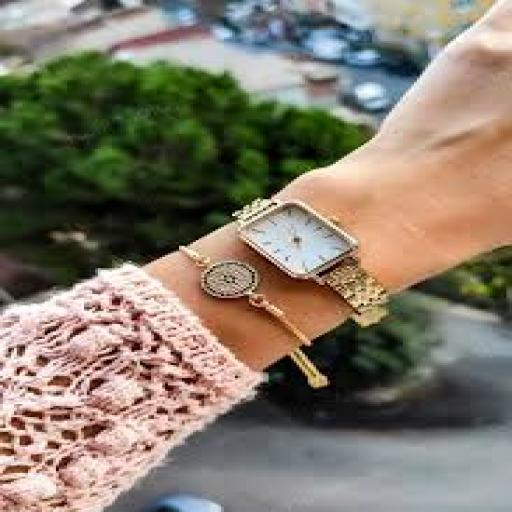KolSaati: (217, 186, 408, 327)
